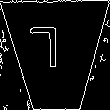L_S: (40, 30, 72, 81)
